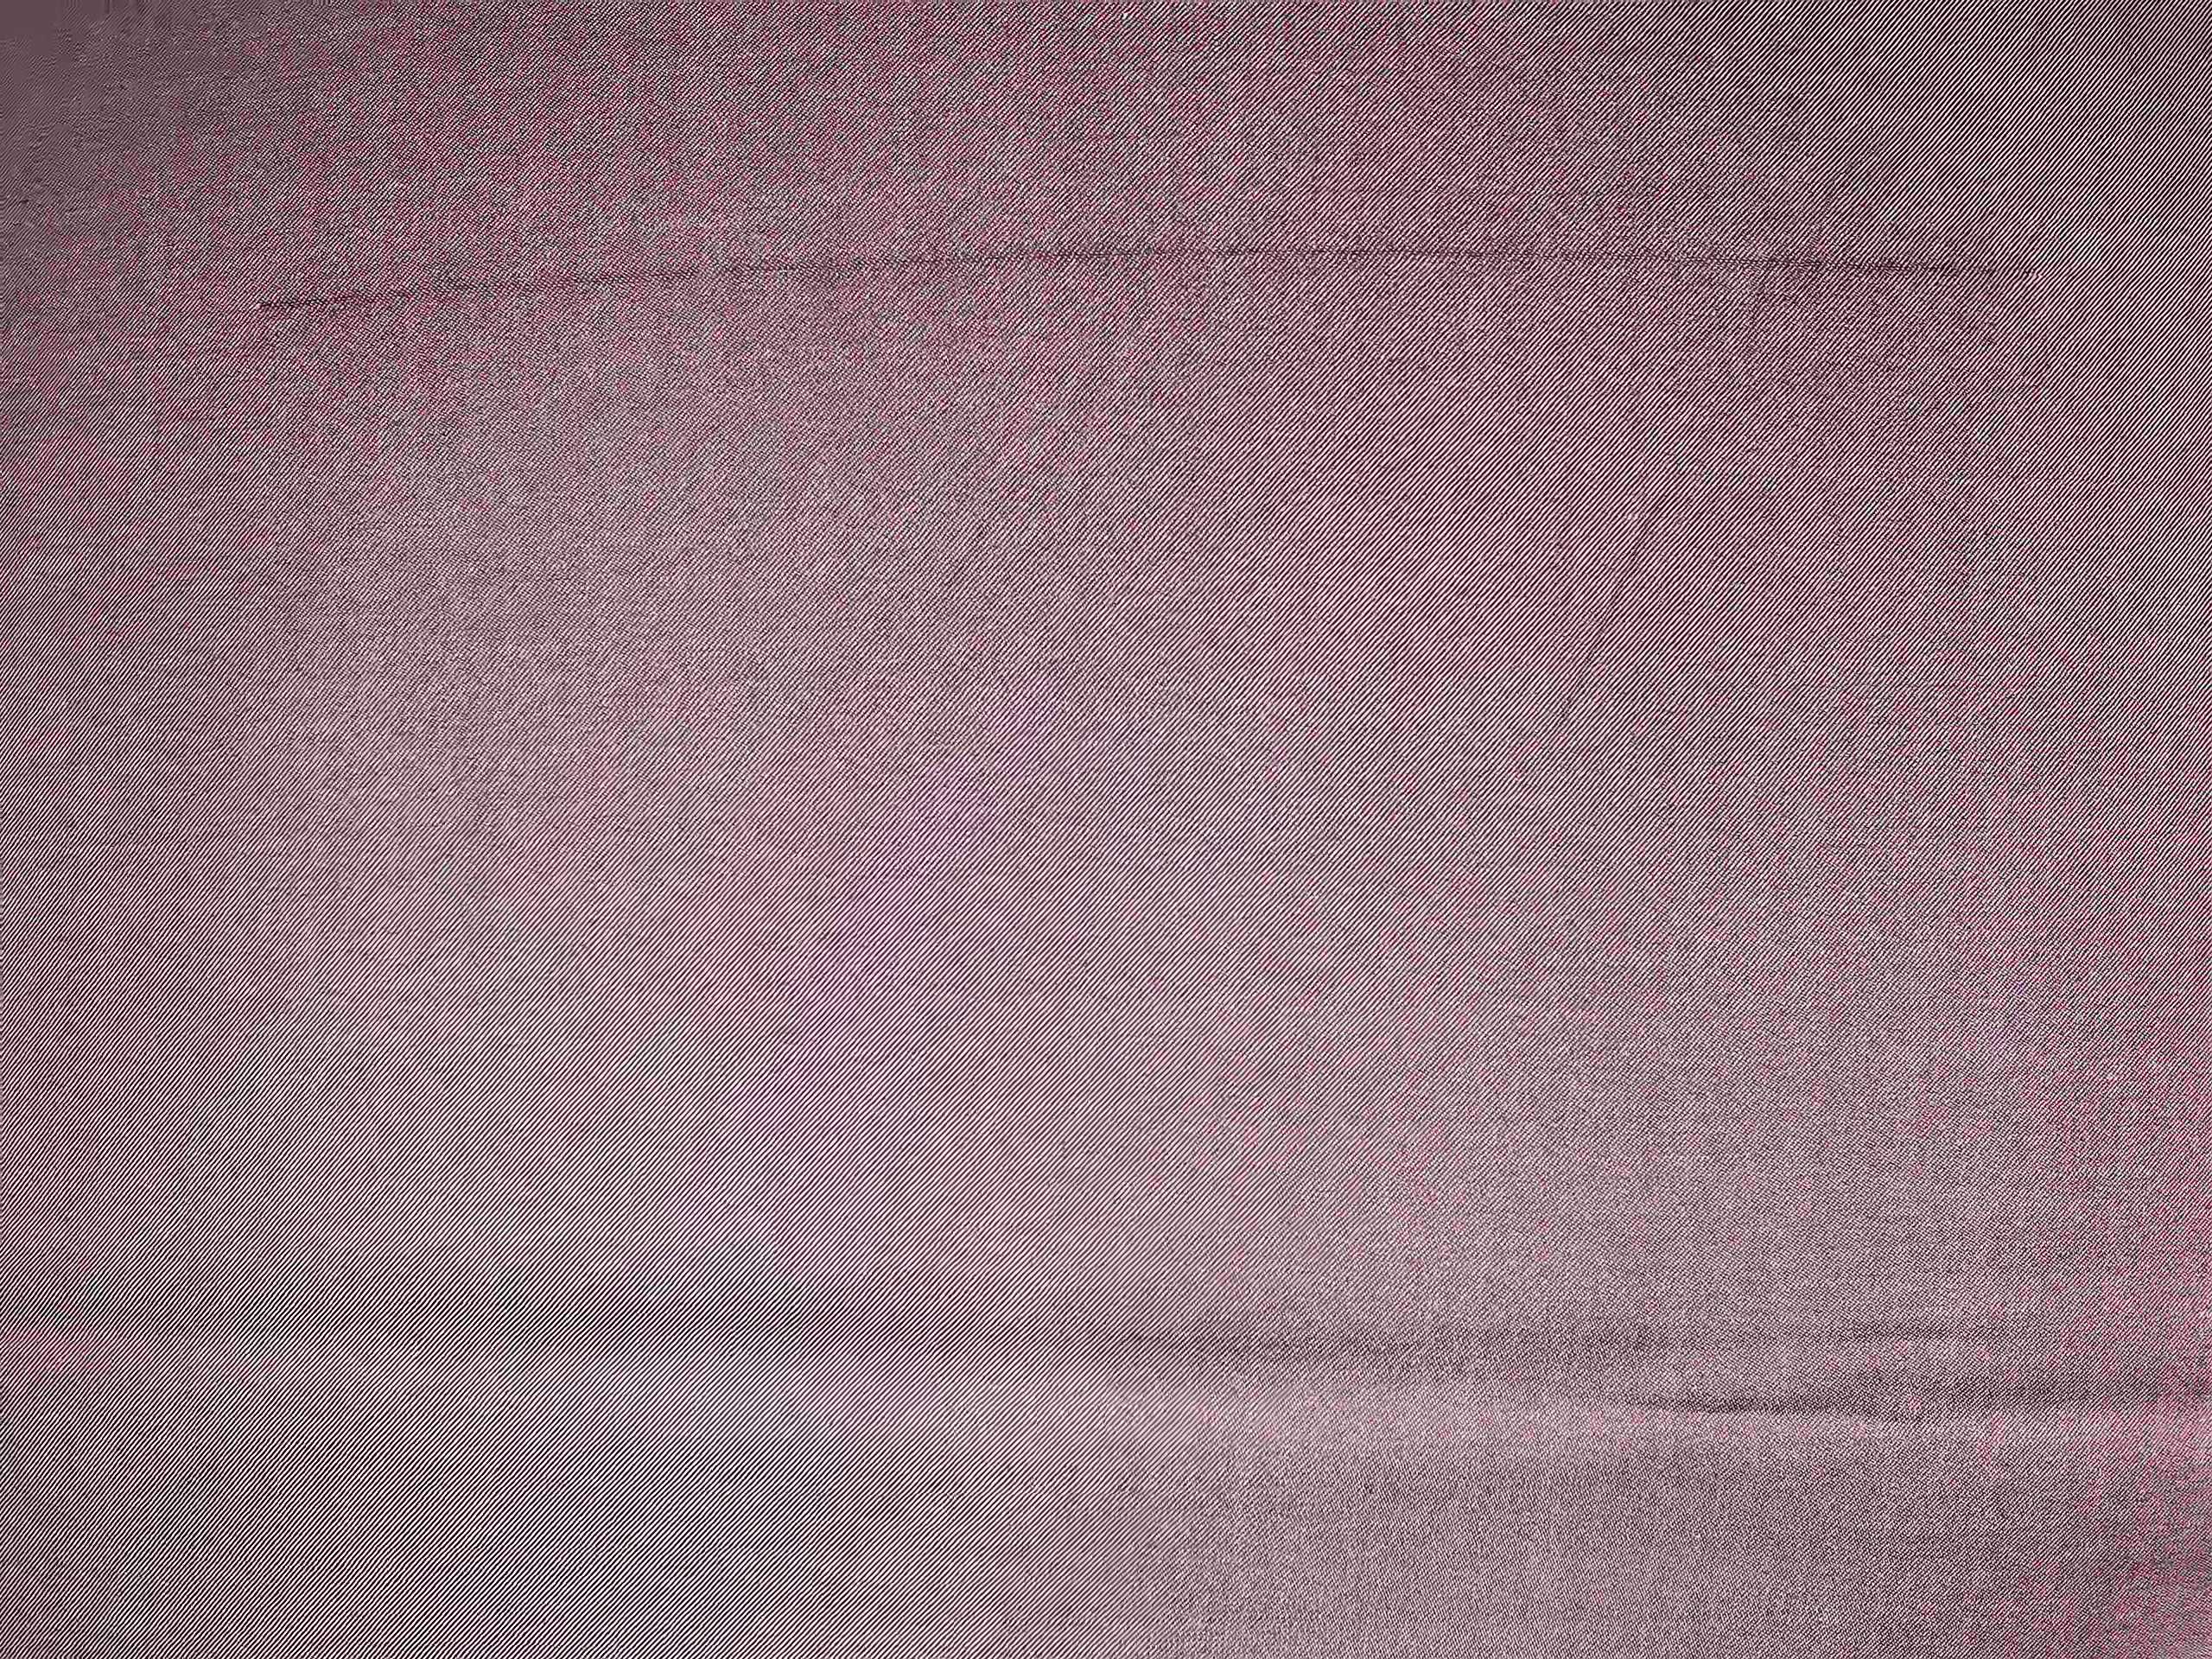thin-spinning: (251, 230, 2066, 322)
